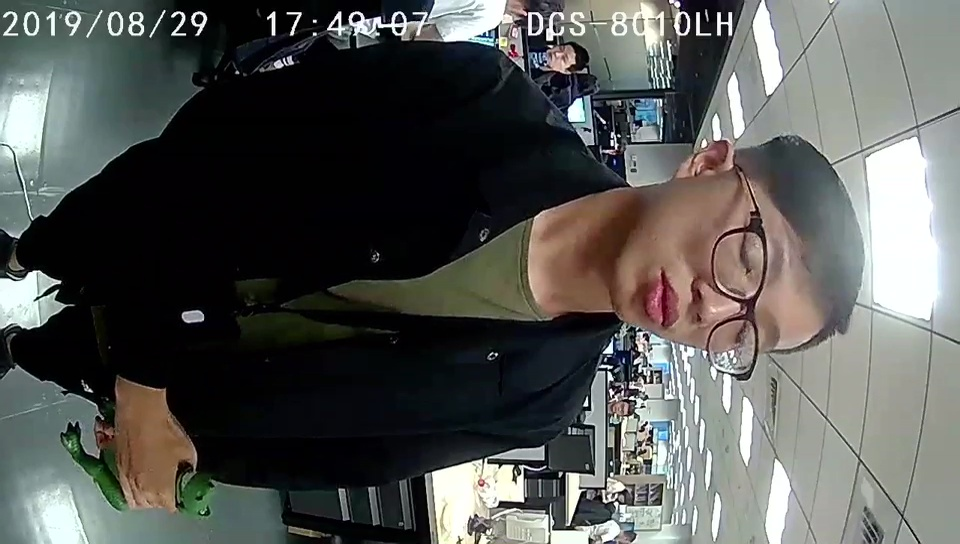rex: (60, 418, 215, 520)
